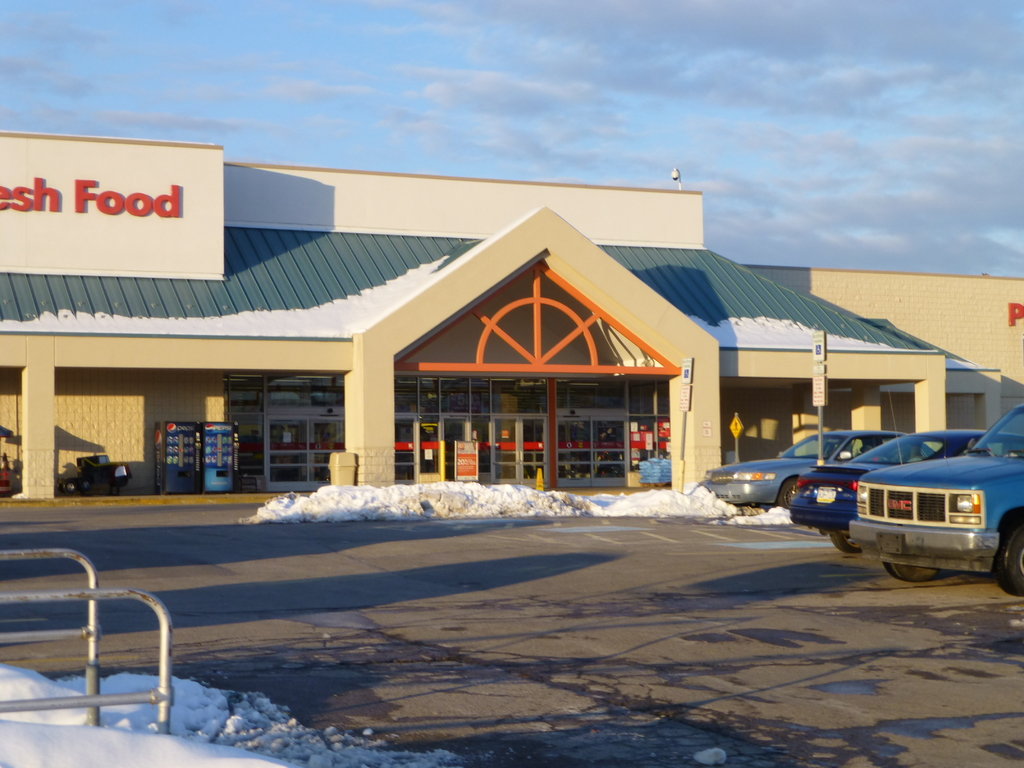Car: (792, 385, 1023, 554), (853, 406, 1023, 594), (700, 430, 936, 510)
